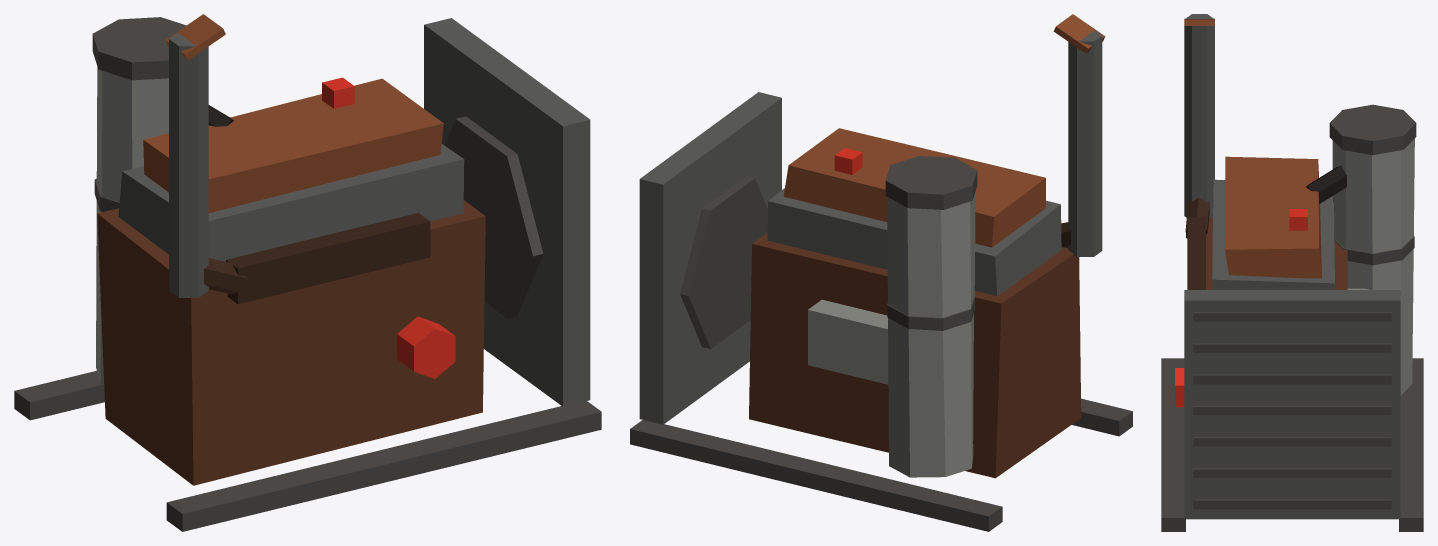
The model's file is eng_workhorse_diesel.glb.
The picture shows the model from 3 angles, left to right: view 1: azimuth 30°, elevation 25°; view 2: azimuth 150°, elevation 25°; view 3: azimuth 270°, elevation 25°; orthographic projection. The views are drawn at different scales.
Visible parts, largest first — view 1: eng_workhorse_diesel; view 2: eng_workhorse_diesel; view 3: eng_workhorse_diesel.
Boxes of the visible parts, x1,y1,x2,y2 form: eng_workhorse_diesel: (14, 14, 601, 531); eng_workhorse_diesel: (630, 14, 1132, 531); eng_workhorse_diesel: (1161, 14, 1423, 531).
Size of the model in its own units: 1.24 by 1.33 by 0.848.
